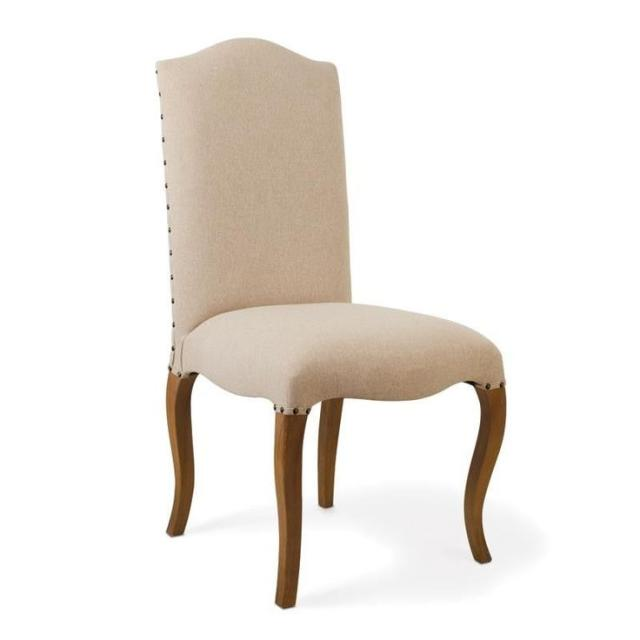bottle: (151, 35, 509, 610)
